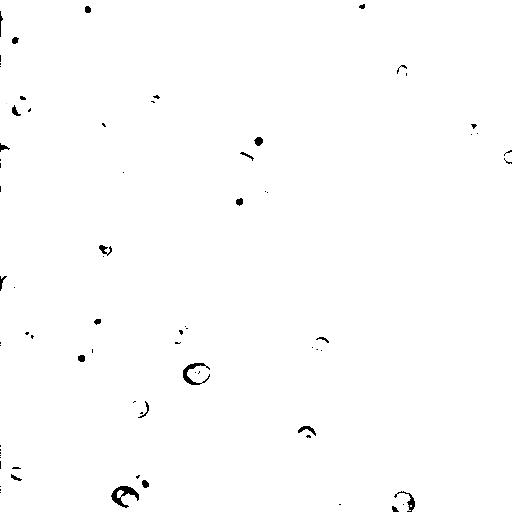micro-algae: (148, 320, 236, 405), (129, 392, 197, 453), (101, 156, 157, 213), (258, 359, 308, 406), (325, 265, 367, 308), (461, 294, 499, 333), (442, 278, 478, 316), (240, 124, 277, 157), (4, 90, 38, 123), (1, 31, 33, 62), (160, 322, 193, 350), (98, 103, 126, 134), (405, 184, 432, 214), (127, 467, 156, 494), (364, 317, 394, 343), (182, 361, 212, 386), (110, 485, 141, 509), (84, 307, 112, 333), (293, 425, 318, 450), (16, 326, 42, 350), (266, 96, 290, 122), (118, 156, 145, 179), (68, 344, 93, 368), (390, 490, 416, 512), (436, 0, 482, 12), (232, 151, 258, 172), (261, 171, 282, 196), (73, 0, 97, 21), (151, 442, 175, 462), (129, 399, 151, 420), (9, 465, 33, 482), (350, 0, 374, 17), (482, 108, 501, 129), (95, 236, 113, 258), (0, 144, 15, 168), (1, 274, 18, 293), (331, 498, 354, 512), (310, 336, 330, 352), (449, 73, 467, 90), (464, 121, 481, 138), (175, 422, 190, 438), (396, 64, 409, 82), (502, 148, 512, 165), (506, 487, 512, 509), (507, 24, 512, 49), (235, 197, 246, 207)
